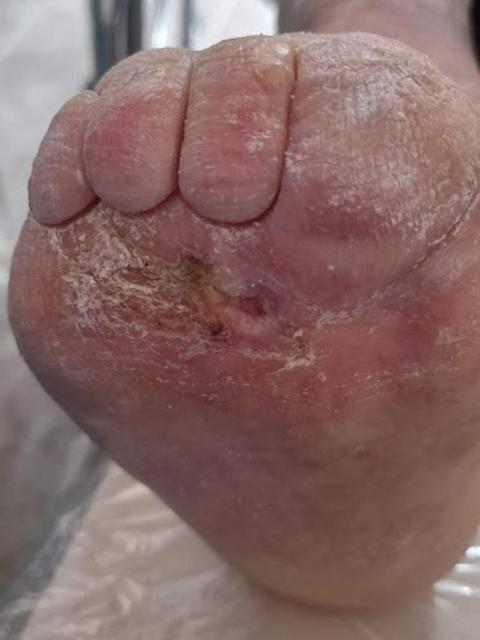wound: (54, 218, 321, 371)
